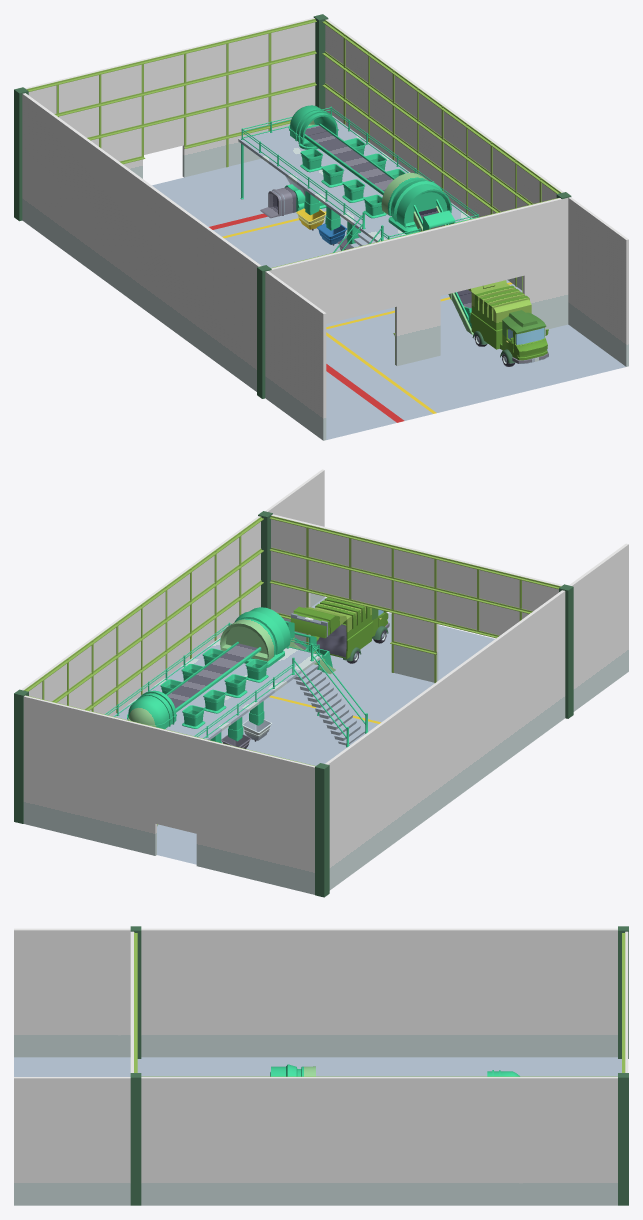
The model's file is plantaDentro.fbx.
3 views of the same model, one above another, from view 1: azimuth 30°, elevation 25°; view 2: azimuth 150°, elevation 25°; view 3: azimuth 270°, elevation 25° (orthographic).
Parts seen in each view (by area): view 1: pared_back, suelo, pared_izq, pared_front, pared_drc, maquina, suelo_maquina, Camion_Verde, separadores, barandas; view 2: pared_izq, pared_back, pared_drc, pared_front, suelo, maquina, suelo_maquina, Camion_Verde, separadores, escalera, barandas, pasamanos; view 3: pared_back, pared_front, suelo, pared_drc, pared_izq, maquina.
Boxes of the visible parts, <box> form: pared_back: <box>22,93,326,440</box>; suelo: <box>152,158,625,439</box>; pared_izq: <box>14,14,328,221</box>; pared_front: <box>322,19,628,366</box>; pared_drc: <box>257,192,571,398</box>; maquina: <box>260,105,473,334</box>; suelo_maquina: <box>238,115,472,242</box>; Camion_Verde: <box>468,280,548,366</box>; separadores: <box>300,138,405,244</box>; barandas: <box>240,106,478,239</box>; pared_izq: <box>14,689,329,897</box>; pared_back: <box>325,543,628,890</box>; pared_drc: <box>258,511,573,718</box>; pared_front: <box>21,469,324,716</box>; suelo: <box>157,597,494,864</box>; maquina: <box>127,607,335,729</box>; suelo_maquina: <box>112,637,321,740</box>; Camion_Verde: <box>290,597,389,663</box>; separadores: <box>160,648,268,742</box>; escalera: <box>294,664,364,745</box>; barandas: <box>105,622,319,738</box>; pasamanos: <box>292,644,367,747</box>; pared_back: <box>14,928,617,1057</box>; pared_front: <box>14,1076,617,1205</box>; suelo: <box>14,1057,621,1076</box>; pared_drc: <box>130,926,141,1205</box>; pared_izq: <box>618,926,628,1205</box>; maquina: <box>271,1064,519,1076</box>.
Size of the model in its own units: 51 by 21 by 87.6.
